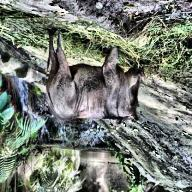boar: (45, 45, 156, 136)
